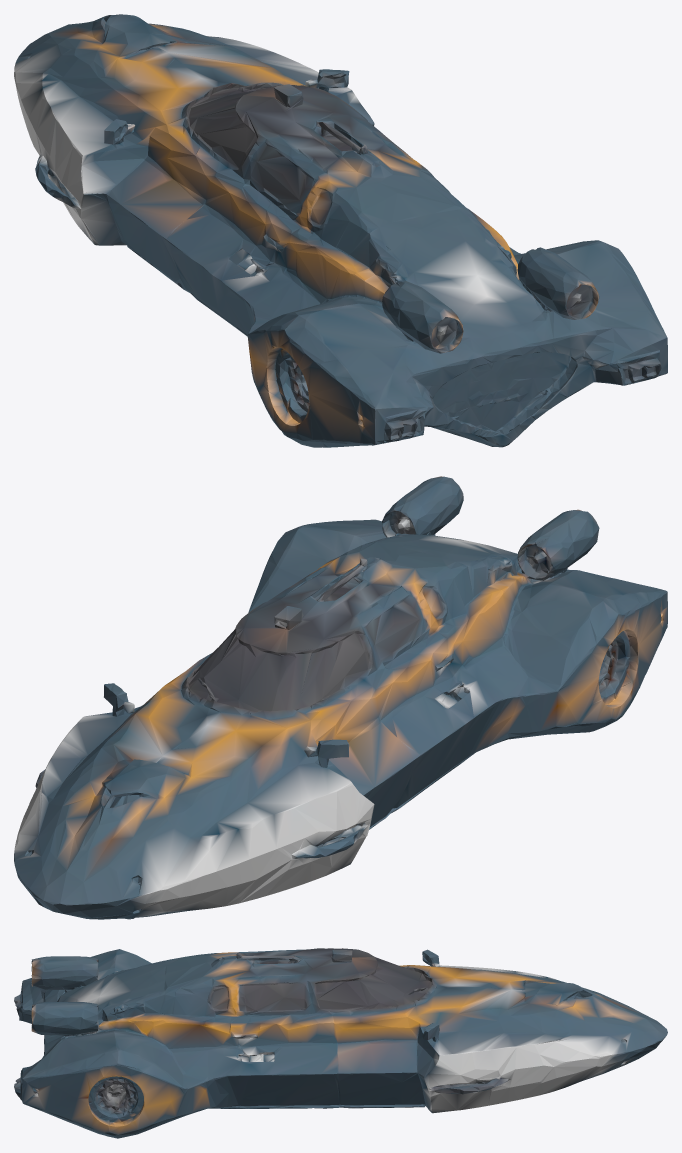
File: ironclad_hi.glb
3 views of the same model, one above another, from view 1: azimuth 30°, elevation 25°; view 2: azimuth 150°, elevation 25°; view 3: azimuth 270°, elevation 25° (orthographic). The views are drawn at different scales.
Parts seen in each view (by area): view 1: geometry_0; view 2: geometry_0; view 3: geometry_0.
Part boxes in pixels (x1,y1,x2,y2): geometry_0: (14,14,667,447); geometry_0: (14,476,667,919); geometry_0: (14,948,667,1138).
Size of the model in its own units: 3.76 by 2.24 by 9.2.
